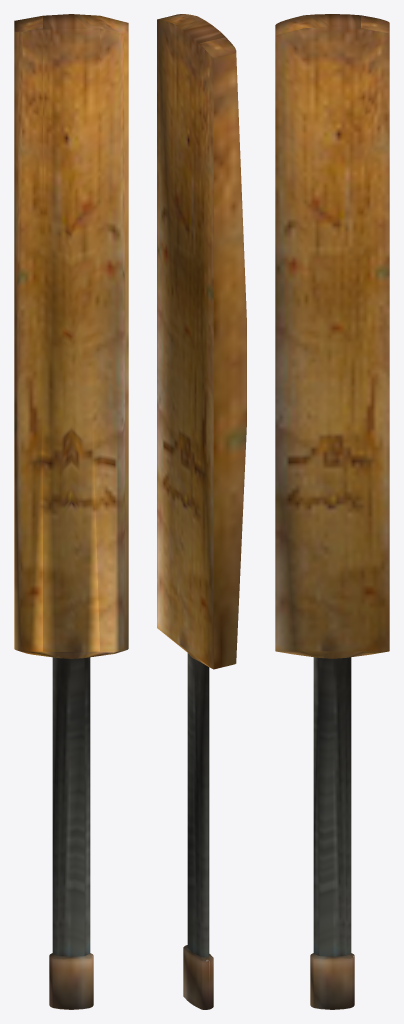
Rendered from AuthenticCricketBat.fbx.
The picture shows the model from 3 angles, left to right: view 1: azimuth 90°, elevation 25°; view 2: azimuth 210°, elevation 25°; view 3: azimuth 270°, elevation 25°; orthographic projection.
Visible parts, largest first — view 1: CricketBat; view 2: CricketBat; view 3: CricketBat.
Part boxes in pixels (x1=…): CricketBat: x1=14, y1=14, x2=128, y2=1009; CricketBat: x1=157, y1=14, x2=246, y2=1009; CricketBat: x1=275, y1=14, x2=389, y2=1009.
Bounding box in the file's own units: 0.0282 × 0.6497 × 0.0683.
